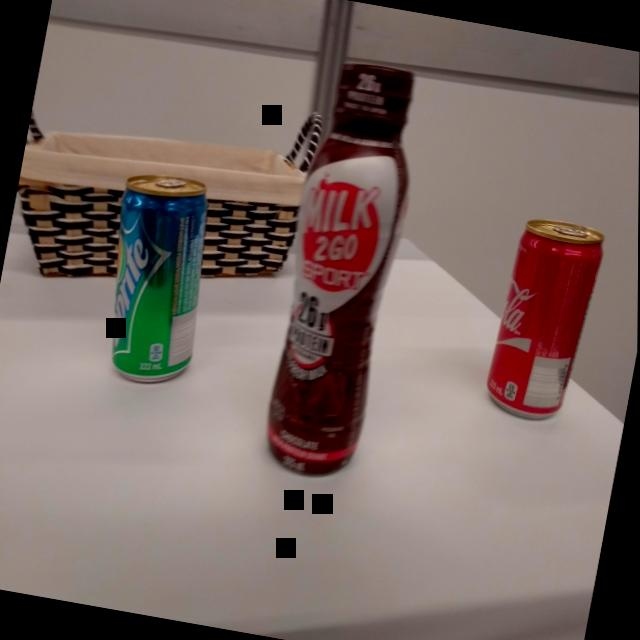chocolate_drink: (249, 52, 435, 491)
coke: (477, 208, 614, 430)
sprite: (87, 162, 231, 396)
